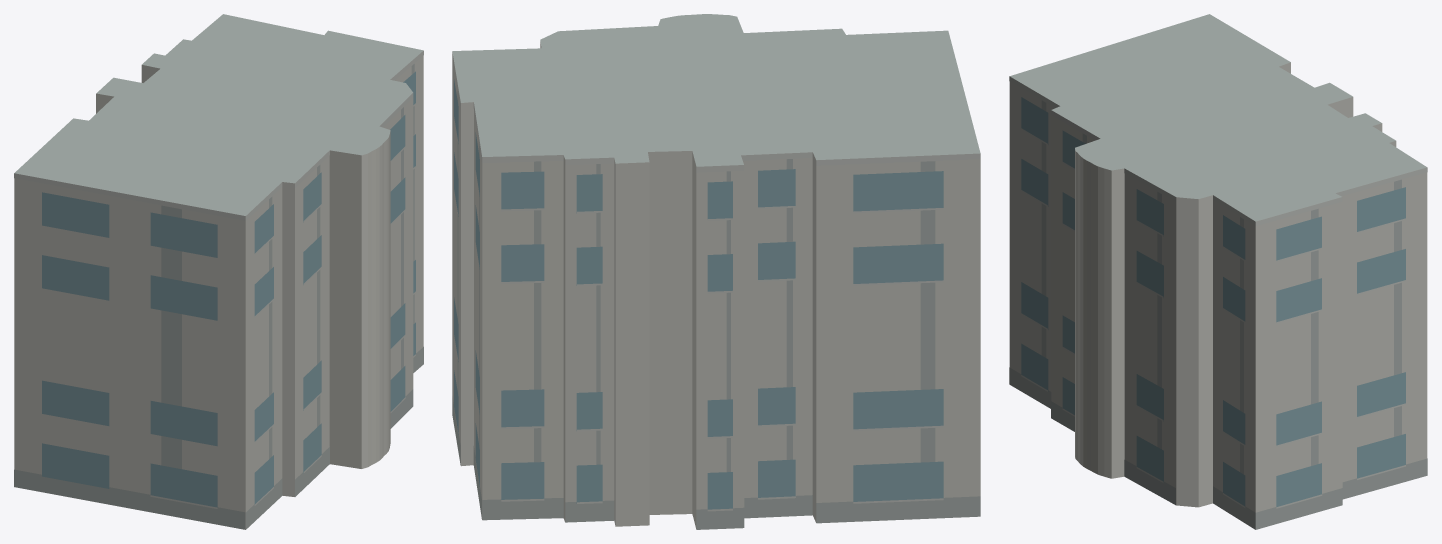
The model's file is survey-upis-32782892.glb.
The picture shows the model from 3 angles, left to right: view 1: azimuth 30°, elevation 25°; view 2: azimuth 150°, elevation 25°; view 3: azimuth 270°, elevation 25°; orthographic projection. The views are drawn at different scales.
Parts seen in each view (by area): view 1: survey-upis-32782892.tmp; view 2: survey-upis-32782892.tmp; view 3: survey-upis-32782892.tmp.
Boxes of the visible parts, box(x1,y1,x2,y2) form: survey-upis-32782892.tmp: box(14, 14, 423, 529); survey-upis-32782892.tmp: box(452, 14, 980, 529); survey-upis-32782892.tmp: box(1009, 14, 1427, 529).
Bounding box in the file's own units: 22.04 × 15.25 × 18.75.
